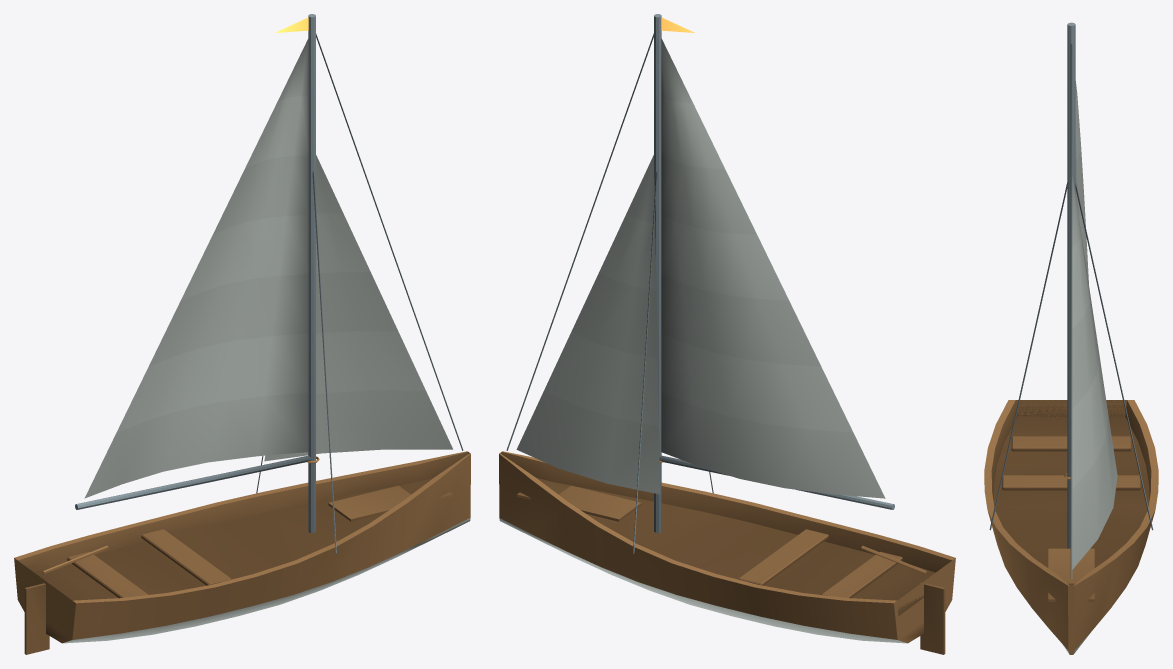
The model's file is sail-skiff.lod0.glb.
The picture shows the model from 3 angles, left to right: view 1: azimuth 30°, elevation 25°; view 2: azimuth 150°, elevation 25°; view 3: azimuth 270°, elevation 25°; orthographic projection.
Parts seen in each view (by area): view 1: structure, rig; view 2: structure, rig; view 3: structure, rig.
Part boxes in pixels (left/top/right/bottom): structure: left=14, top=14, right=470, bottom=654; rig: left=75, top=38, right=311, bottom=509; structure: left=499, top=14, right=955, bottom=654; rig: left=659, top=38, right=894, bottom=509; structure: left=984, top=22, right=1158, bottom=654; rig: left=1075, top=81, right=1088, bottom=283.
Bounding box in the file's own units: 5.65 × 6.92 × 1.89.
